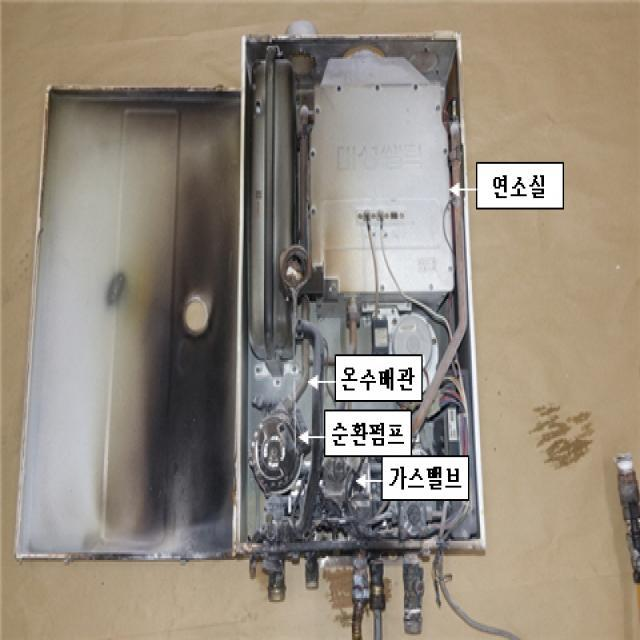Boiler: (16, 29, 562, 618)
